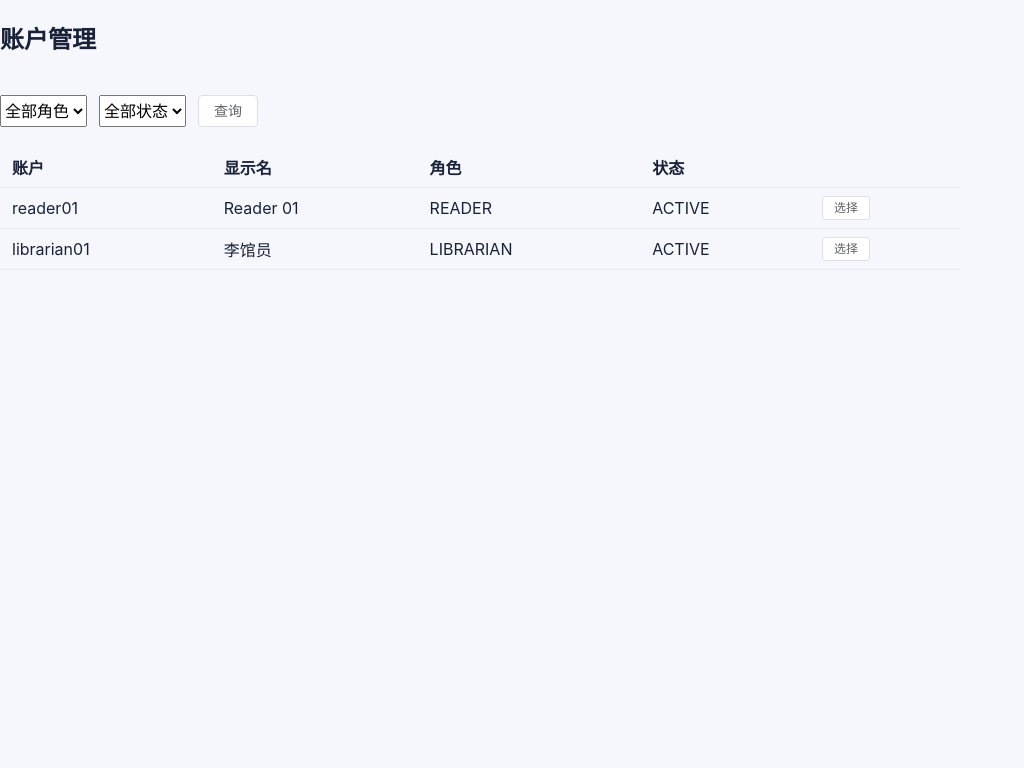
it: AccountAdminView › shows the pending review reference after a high-risk change request
Click the button with test id "account-select-1001" at (846, 208), box [822,196,870,220]
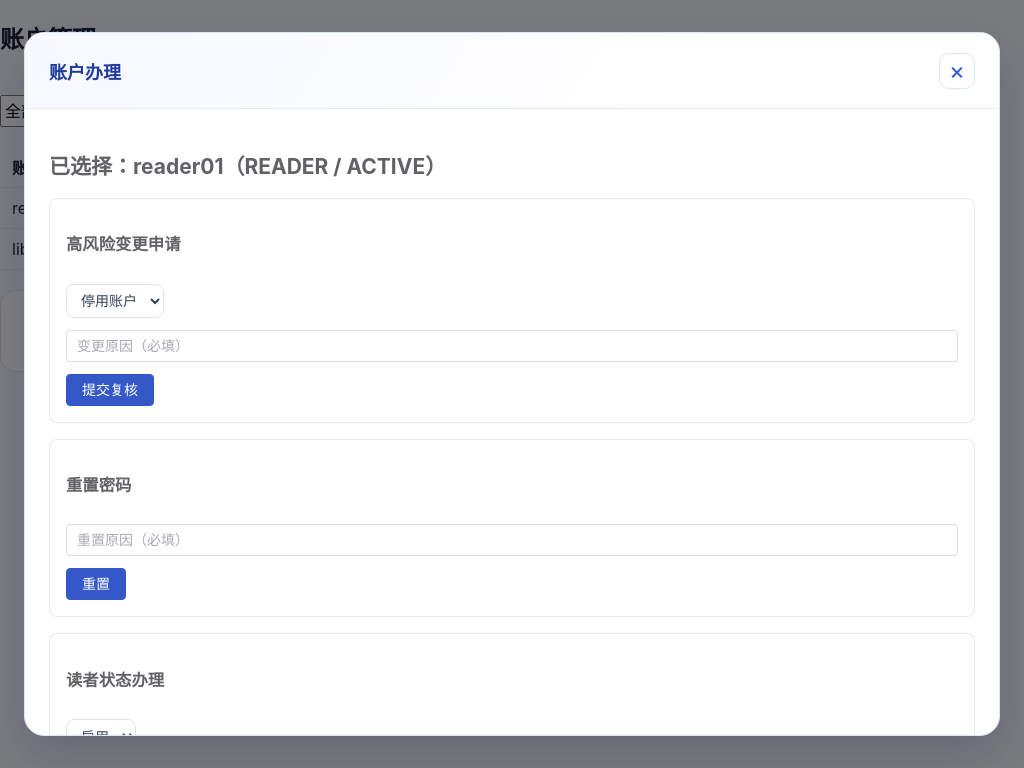
Select "停用账户" in the dropdown with test id "change-action" at (115, 301), box [66,284,164,318]
Type "违规借阅" into the field with test id "change-reason" at (512, 346), box [77,331,947,361]
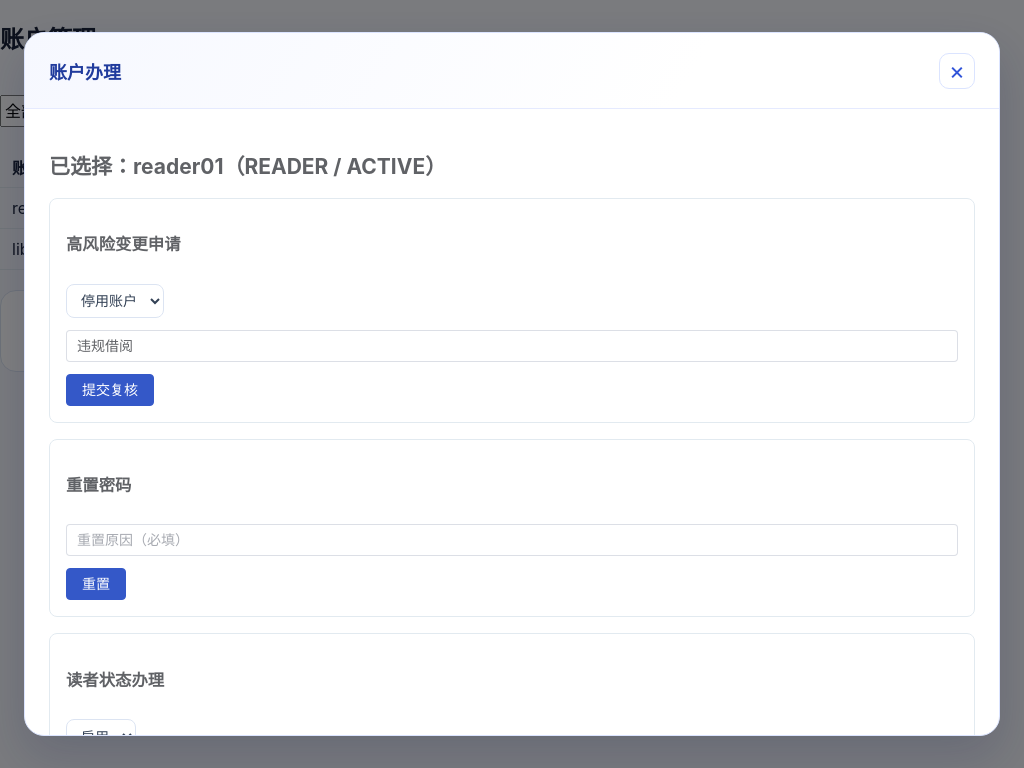
Submit the form with test id "change-form", box [66,284,958,406]
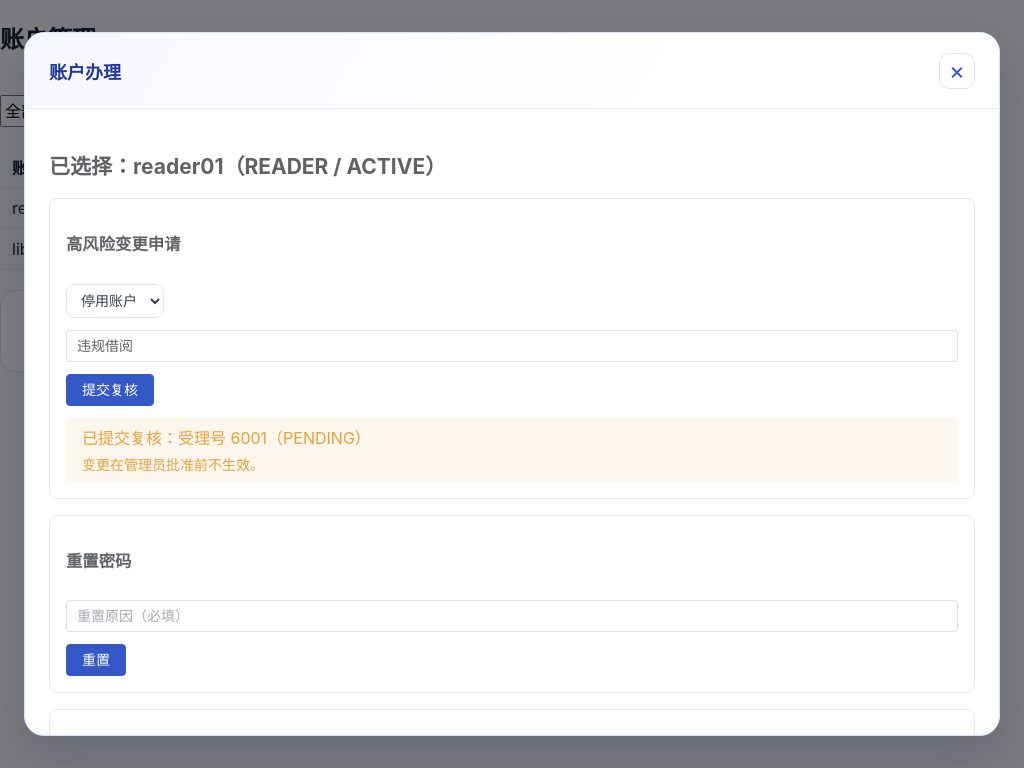
Now the element with test id "change-review-result" is shown, box [66,418,958,482]
Now the element with test id "change-review-result" shows "6001", box [82,428,371,448]
Now the element with test id "change-review-result" shows "PENDING", box [82,428,371,448]
